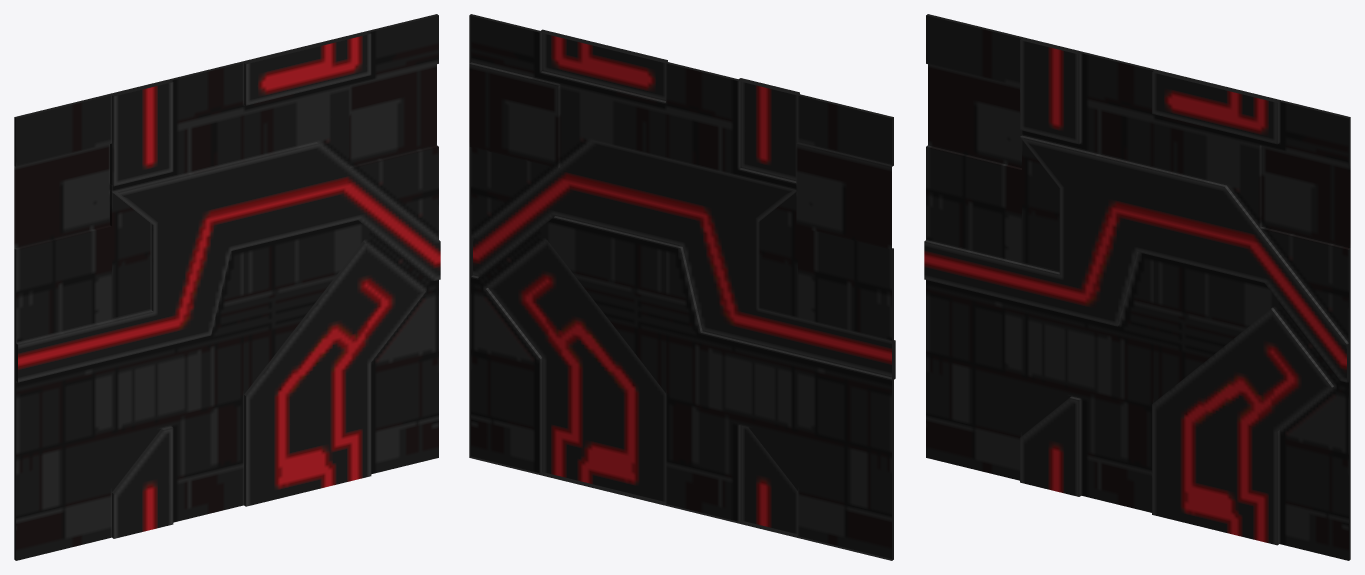
File: reac2_1_mirror.fbx
3 views of the same model, side by side, from view 1: azimuth 30°, elevation 25°; view 2: azimuth 150°, elevation 25°; view 3: azimuth 330°, elevation 25° (orthographic).
Visible parts, largest first — view 1: reac2_1_mesh; view 2: reac2_1_mesh; view 3: reac2_1_mesh.
Boxes of the visible parts, bbox=[...] form: reac2_1_mesh: bbox=[14, 14, 440, 560]; reac2_1_mesh: bbox=[469, 14, 895, 560]; reac2_1_mesh: bbox=[924, 14, 1350, 560].
Bounding box in the file's own units: 256 × 256 × 4.
